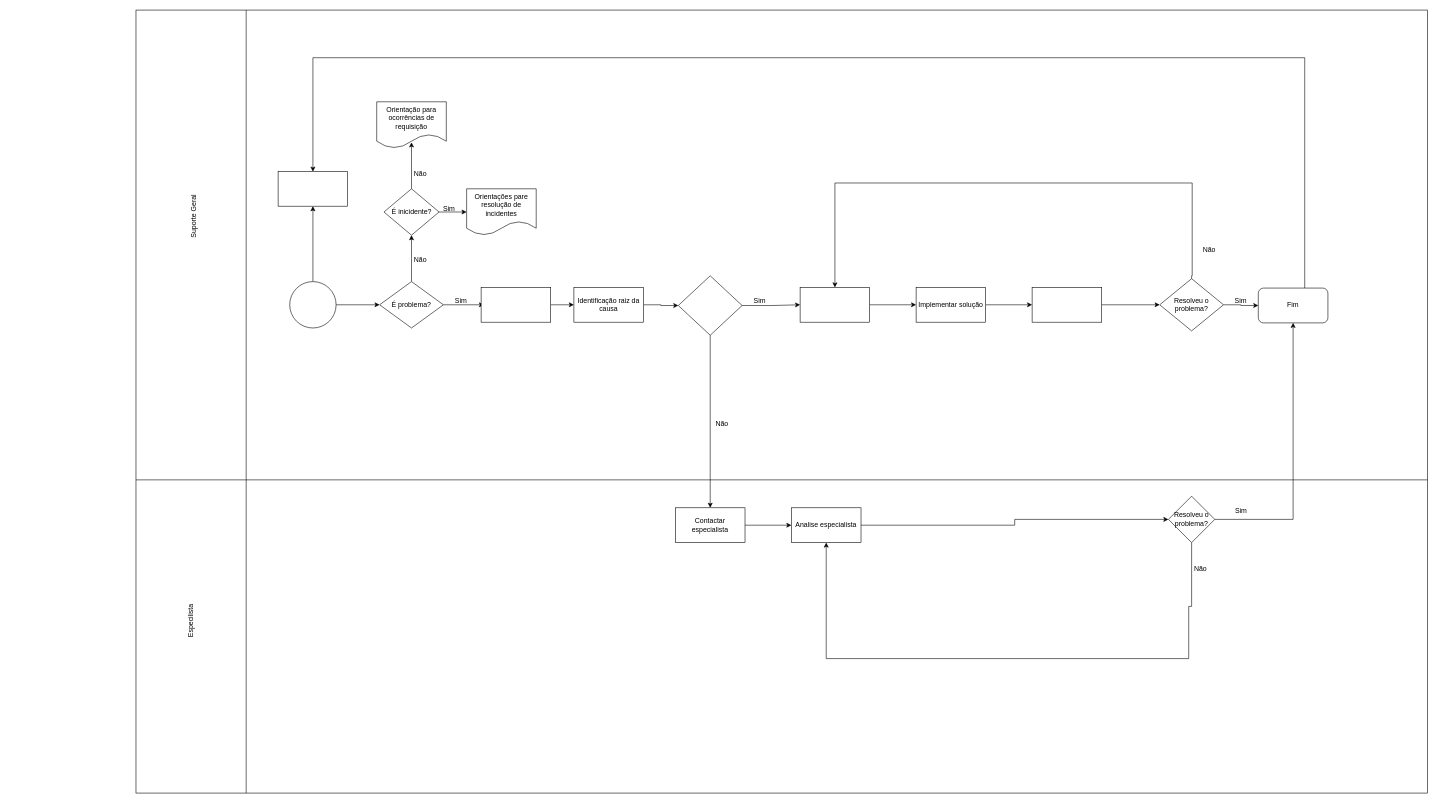
The diagram is 1438 pixels wide and 804 high, and some of its shapes have lost their labels. The shapes that lost their labels are listed below. From the top down, each one's centre as x and y in pixels, then its label:
the point at 313,188: Documentar/Registrar no Banco de Dados
the point at 312,304: Recebimento de ocorrência do cliente.
the point at 516,304: Escalonamento para o N3
the point at 710,305: Pôde identificar a causa raiz?
the point at 835,304: Isolar a causa
the point at 1067,304: Testar solução
